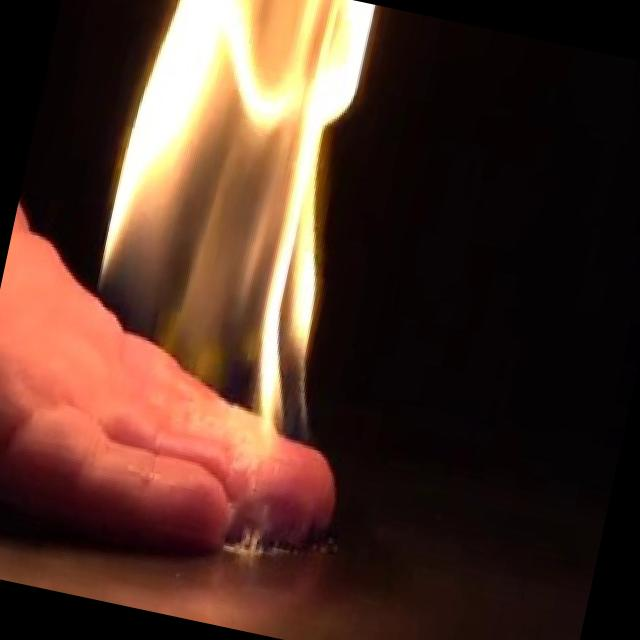Fire: (48, 0, 385, 453)
